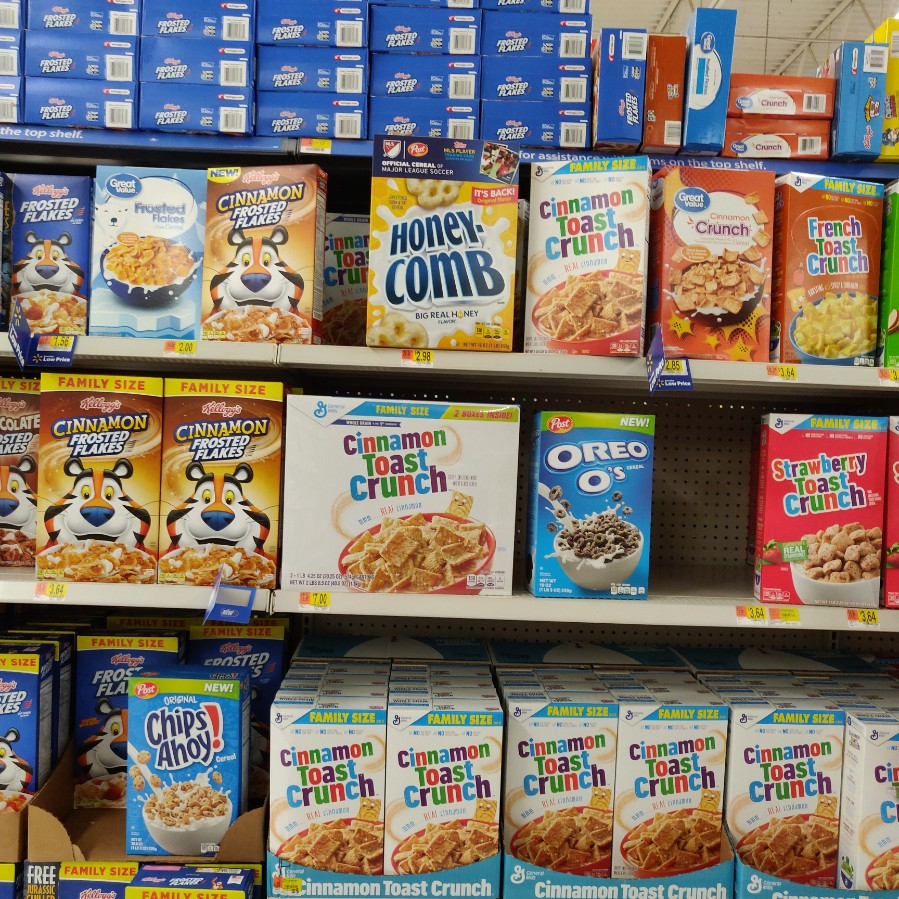Chips Ahoys-565717529: (119, 675, 245, 858)
Honey Comb- 009288857: (373, 133, 520, 349)
Oreo-563424384: (532, 410, 652, 587)
